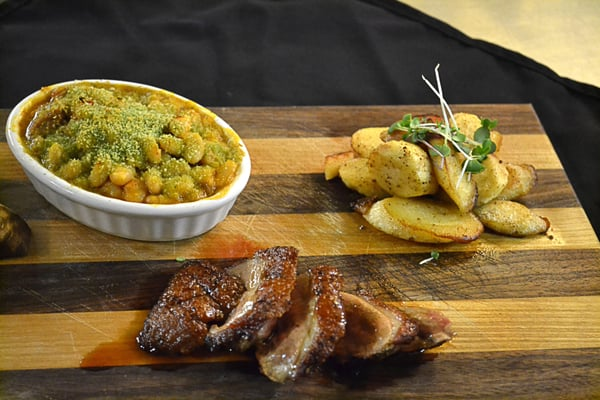sushi: (4, 78, 252, 241)
